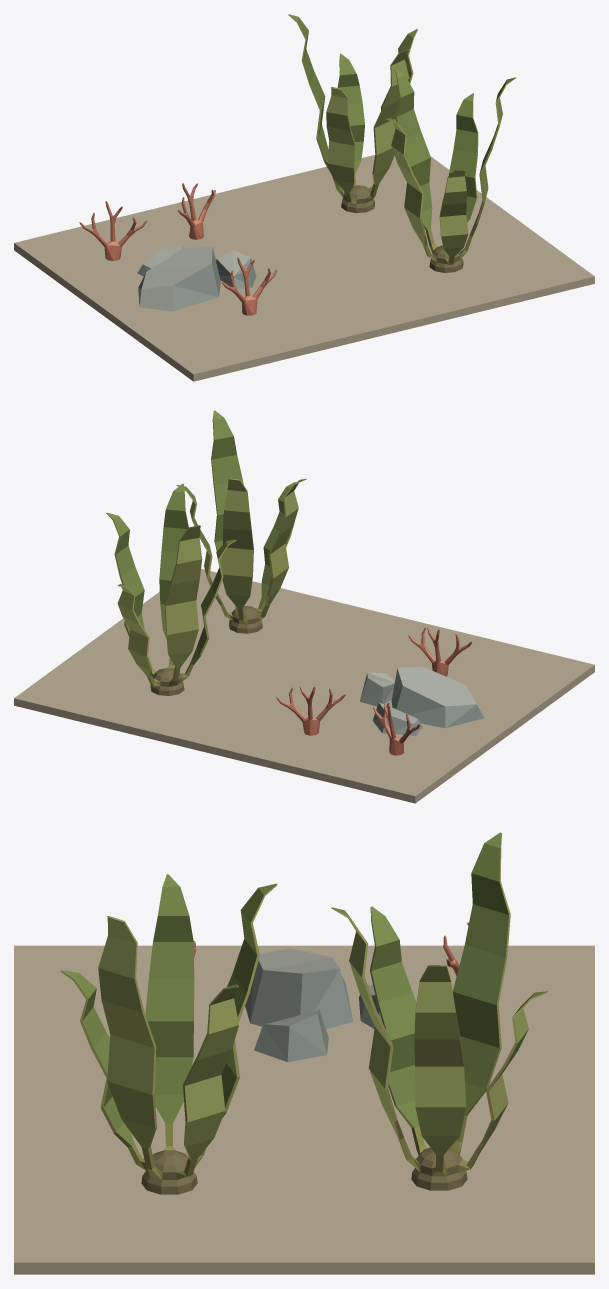
3 renders of one model, top to bottom at view 1: azimuth 30°, elevation 25°; view 2: azimuth 150°, elevation 25°; view 3: azimuth 270°, elevation 25°, orthographic. The views are drawn at different scales.
Parts seen in each view (by area): view 1: SCENE_ONLY__FiniteSandySeabed, seaweed_front__ContinuousBroadRibbonSeaweed, seaweed_back__ContinuousBroadRibbonSeaweed, low_reef_rubble__nature-companion-scree-01, coral_back_left__ContinuousBranchingCoral, coral_front__ContinuousBranchingCoral, coral_back_right__ContinuousBranchingCoral; view 2: SCENE_ONLY__FiniteSandySeabed, seaweed_back__ContinuousBroadRibbonSeaweed, seaweed_front__ContinuousBroadRibbonSeaweed, low_reef_rubble__nature-companion-scree-01, coral_back_right__ContinuousBranchingCoral, coral_front__ContinuousBranchingCoral, coral_back_left__ContinuousBranchingCoral; view 3: SCENE_ONLY__FiniteSandySeabed, seaweed_back__ContinuousBroadRibbonSeaweed, seaweed_front__ContinuousBroadRibbonSeaweed, low_reef_rubble__nature-companion-scree-01.
Part boxes in pixels (x1,y1,x2,y2): SCENE_ONLY__FiniteSandySeabed: [14, 155, 594, 381]; seaweed_front__ContinuousBroadRibbonSeaweed: [386, 69, 515, 272]; seaweed_back__ContinuousBroadRibbonSeaweed: [288, 14, 417, 213]; low_reef_rubble__nature-companion-scree-01: [137, 246, 256, 311]; coral_back_left__ContinuousBranchingCoral: [79, 201, 146, 261]; coral_front__ContinuousBranchingCoral: [222, 257, 277, 315]; coral_back_right__ContinuousBranchingCoral: [177, 183, 215, 239]; SCENE_ONLY__FiniteSandySeabed: [14, 568, 594, 803]; seaweed_back__ContinuousBroadRibbonSeaweed: [106, 483, 236, 695]; seaweed_front__ContinuousBroadRibbonSeaweed: [176, 410, 306, 633]; low_reef_rubble__nature-companion-scree-01: [360, 666, 484, 735]; coral_back_right__ContinuousBranchingCoral: [276, 686, 345, 735]; coral_front__ContinuousBranchingCoral: [408, 627, 472, 676]; coral_back_left__ContinuousBranchingCoral: [373, 702, 420, 755]; SCENE_ONLY__FiniteSandySeabed: [14, 945, 594, 1274]; seaweed_back__ContinuousBroadRibbonSeaweed: [331, 832, 548, 1190]; seaweed_front__ContinuousBroadRibbonSeaweed: [60, 874, 277, 1194]; low_reef_rubble__nature-companion-scree-01: [245, 948, 382, 1062].
Bounding box in the file's own units: 4 × 1.88 × 3.1.
